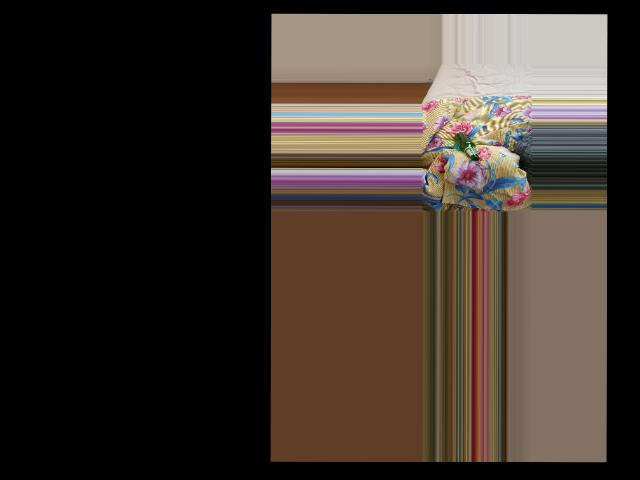beer: (454, 133, 478, 161)
